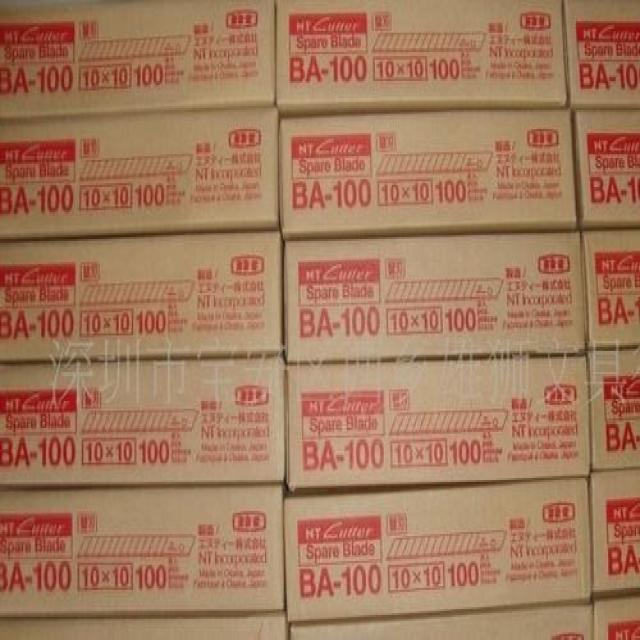box: (284, 475, 593, 620), (285, 352, 590, 494), (282, 231, 589, 367), (278, 106, 578, 238), (1, 481, 285, 616), (0, 353, 285, 487), (1, 230, 285, 362), (1, 105, 279, 239), (276, 1, 570, 118), (0, 0, 278, 118), (286, 604, 595, 638), (570, 107, 639, 233), (0, 610, 287, 638), (565, 0, 639, 108), (581, 229, 639, 352), (589, 347, 639, 477), (591, 468, 639, 597), (593, 596, 639, 638)
